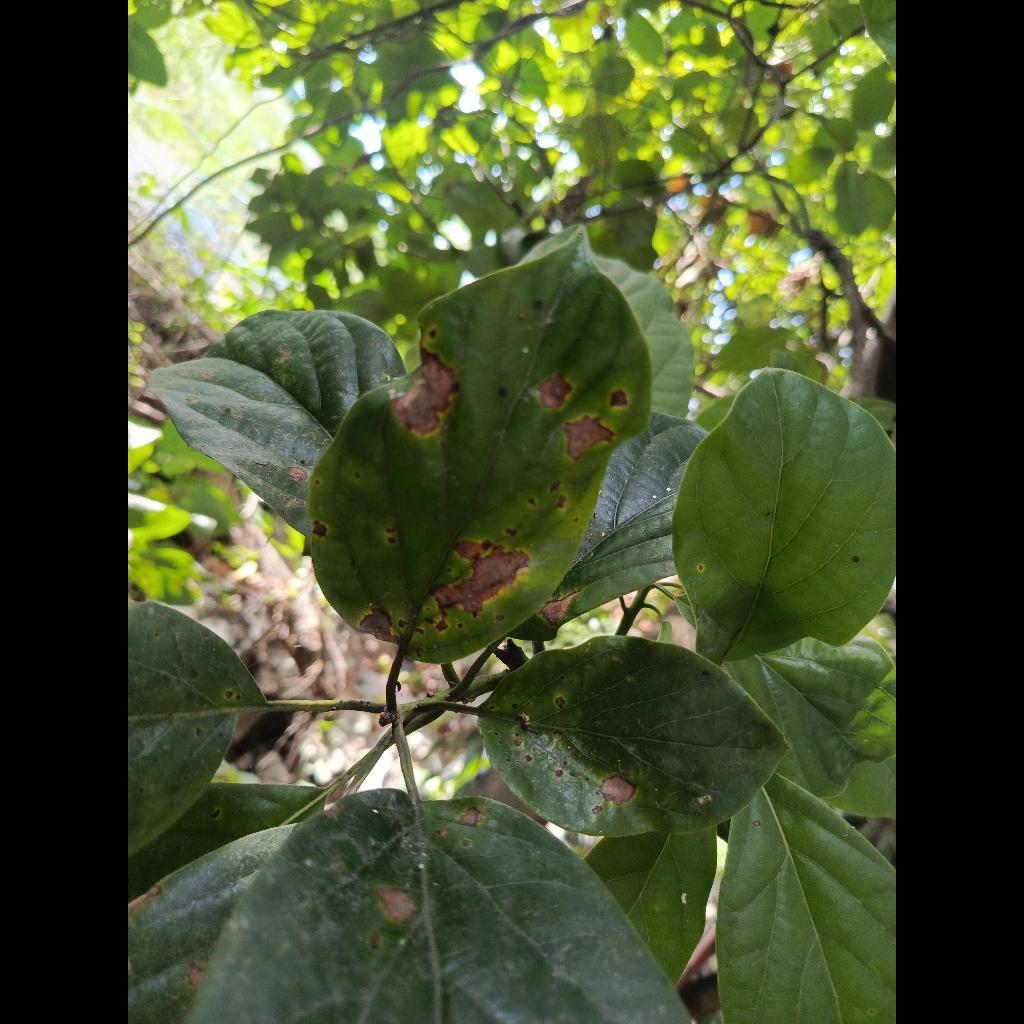Anthracnose: (308, 236, 650, 662)
